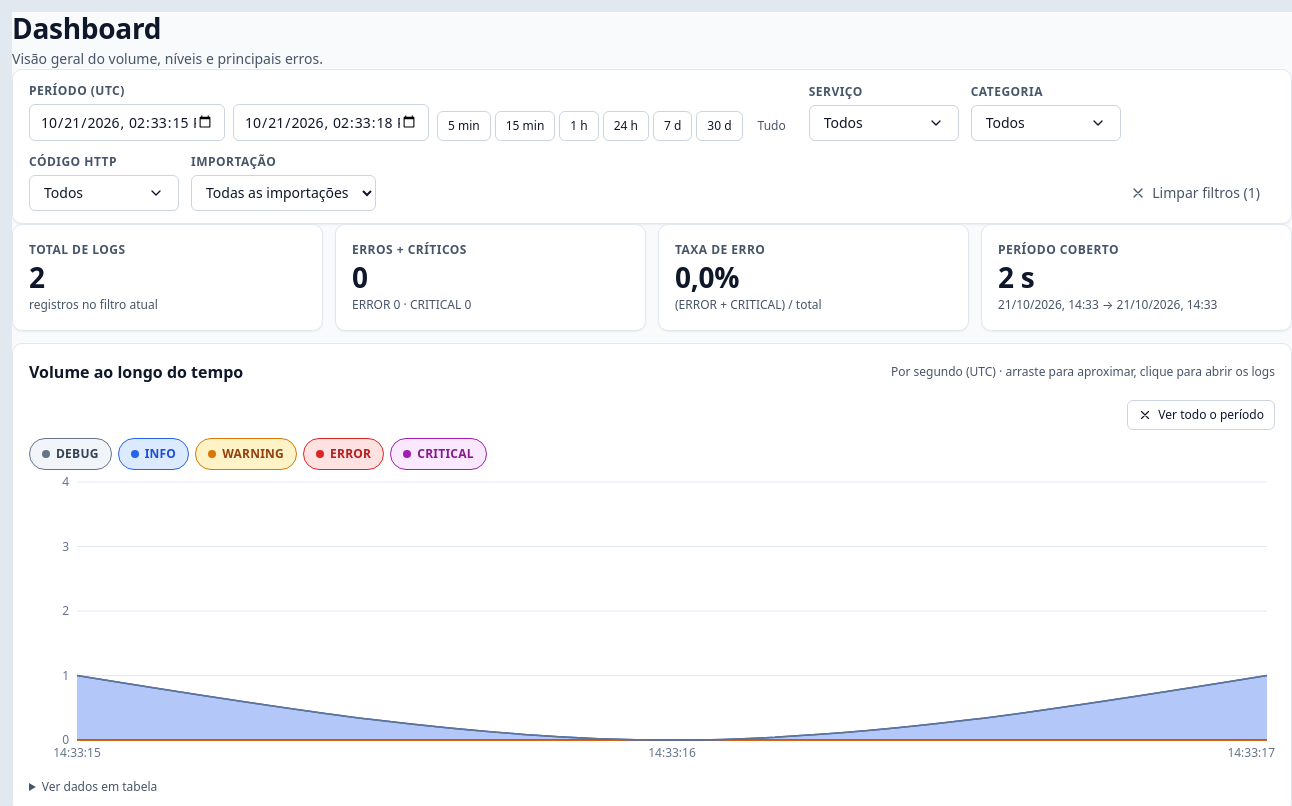
Test case: DashboardPage › names the automatic bucket and resets a zoomed period
Expected: the text "Por segundo (UTC)" is shown, [891,363,1275,380]
Step 1. Click the button "Ver todo o período" → (1201, 415), box [1127,400,1275,430]
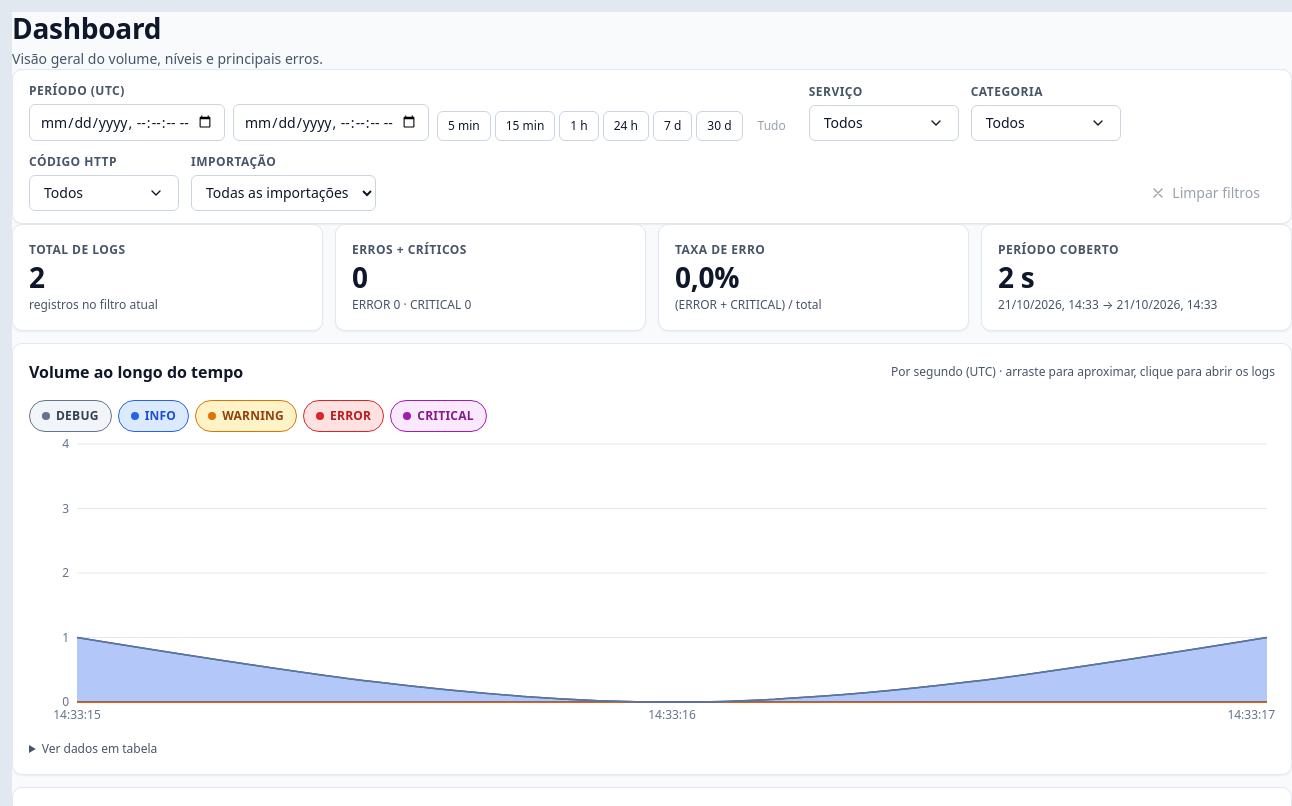
Now the button "Ver todo o período" is gone
